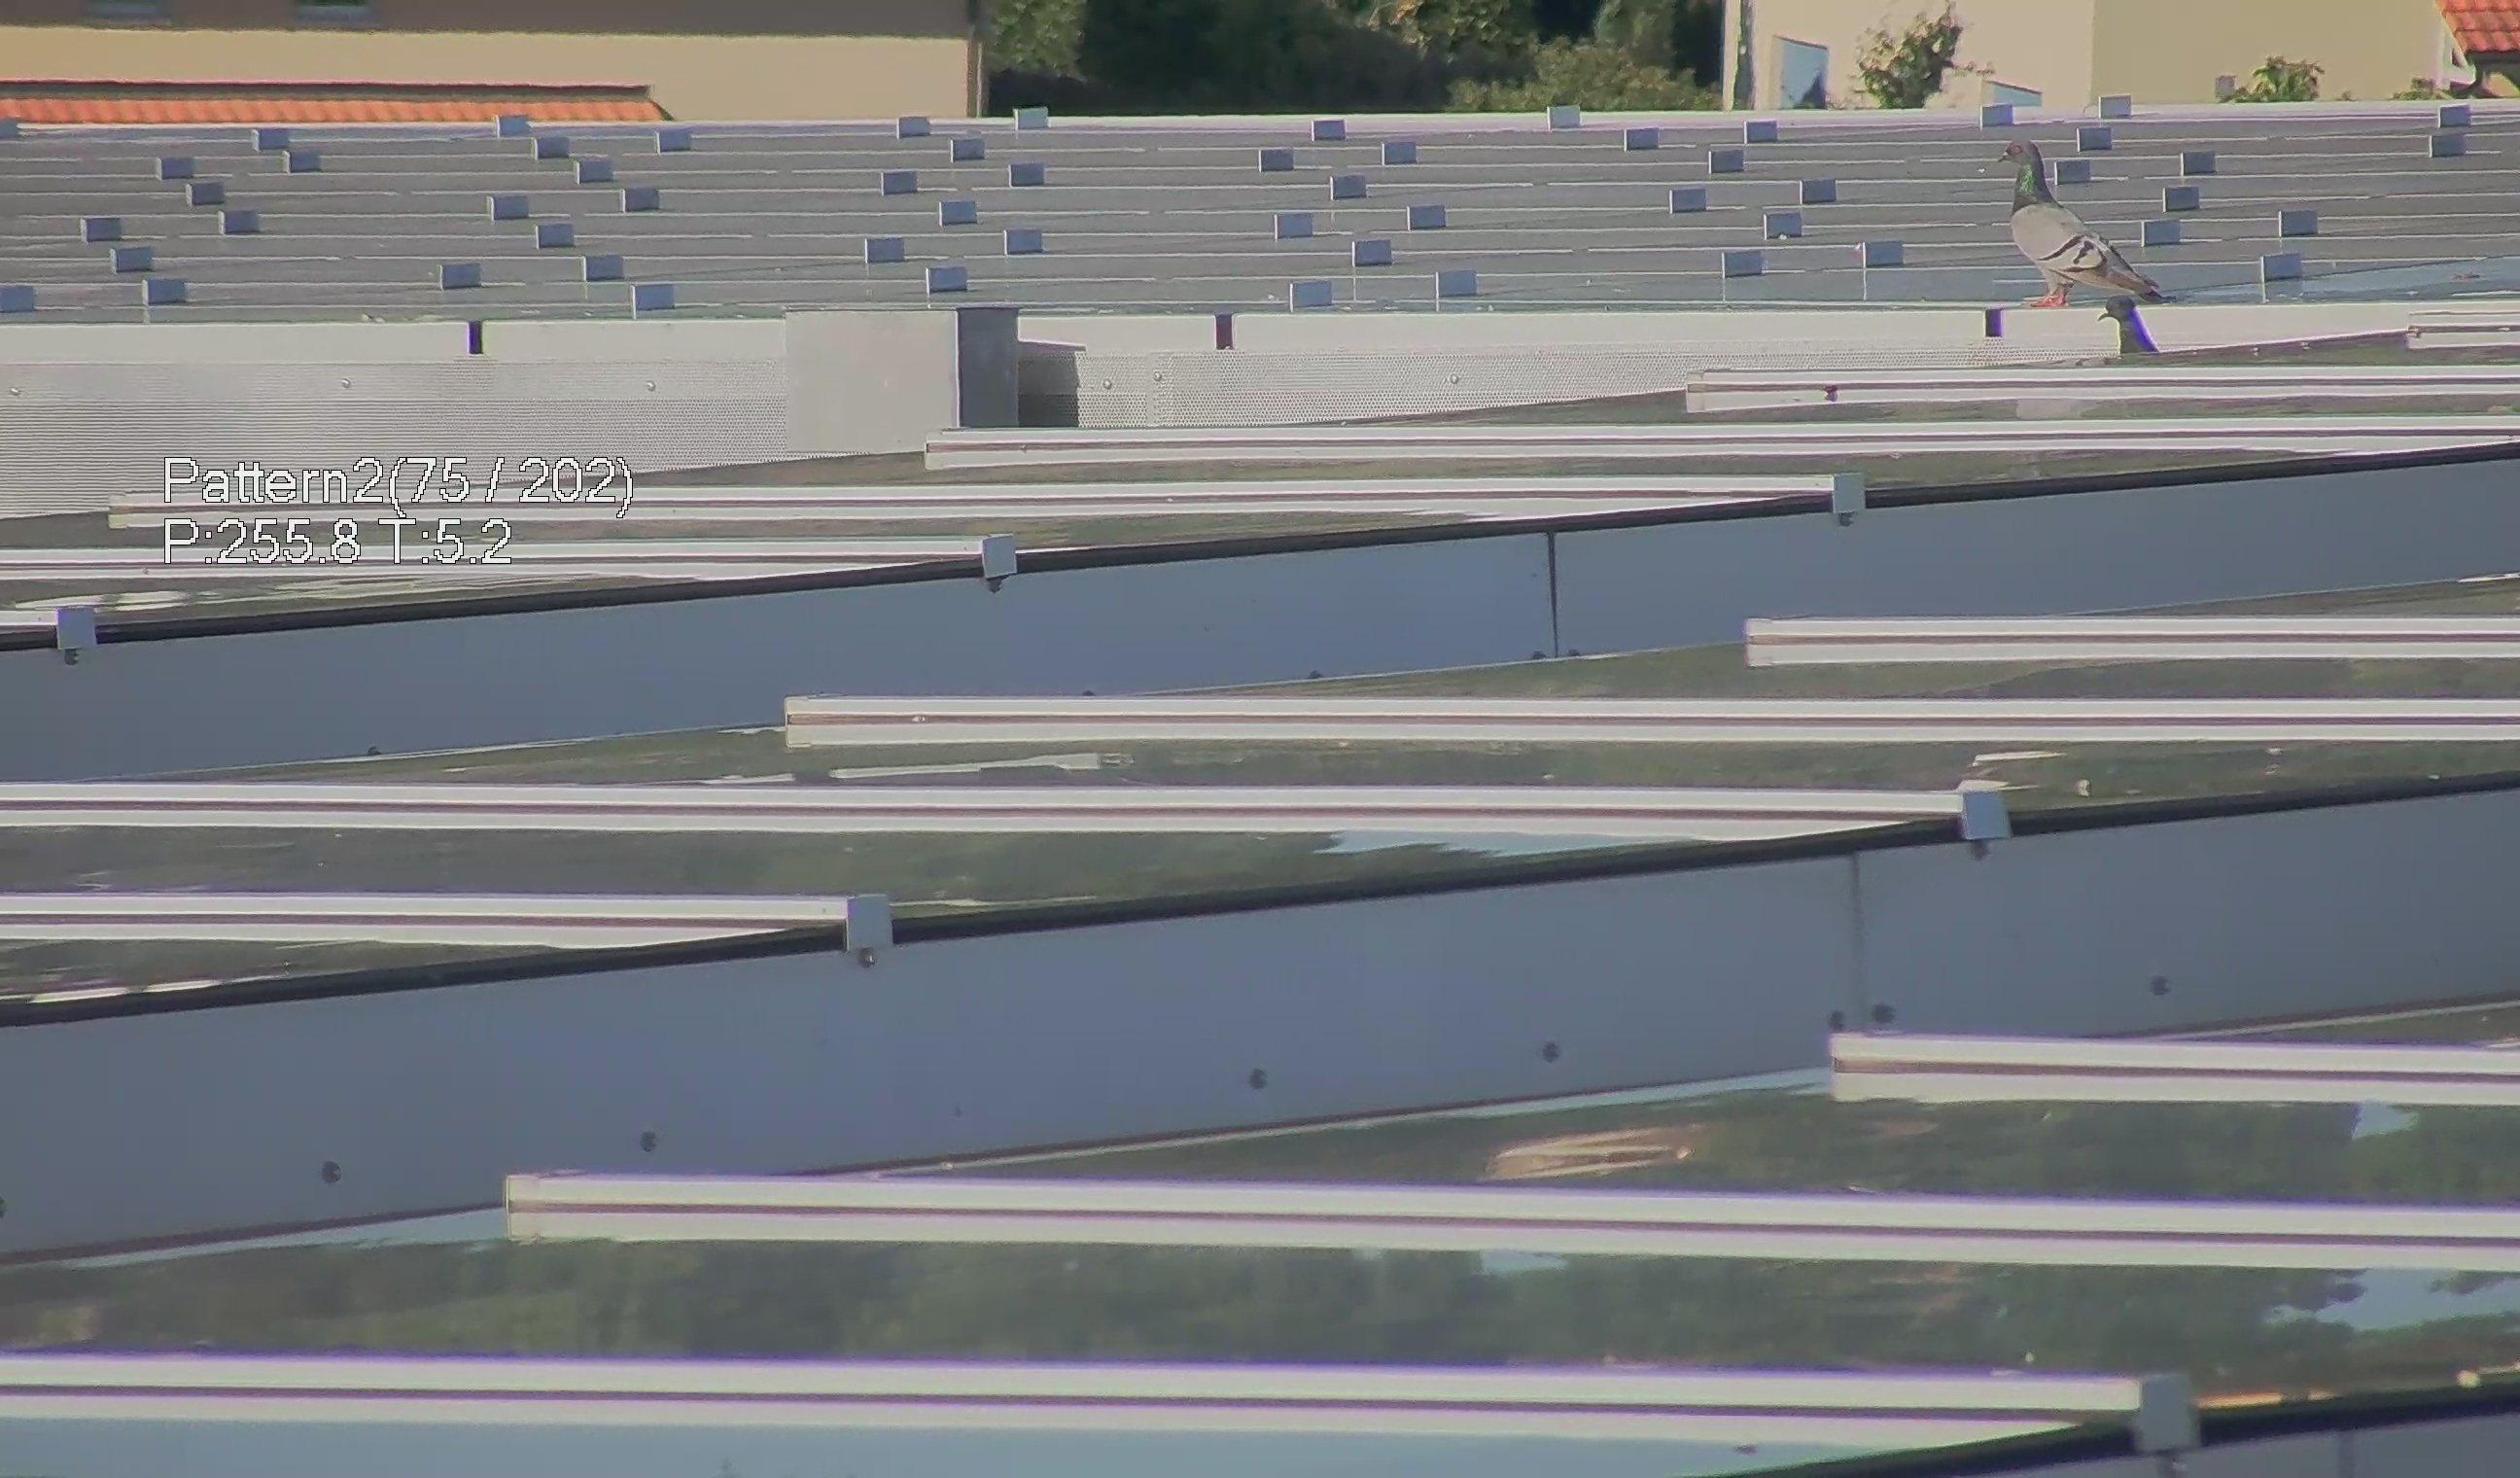Pigeon: (1989, 125, 2172, 329), (2091, 292, 2186, 377)
